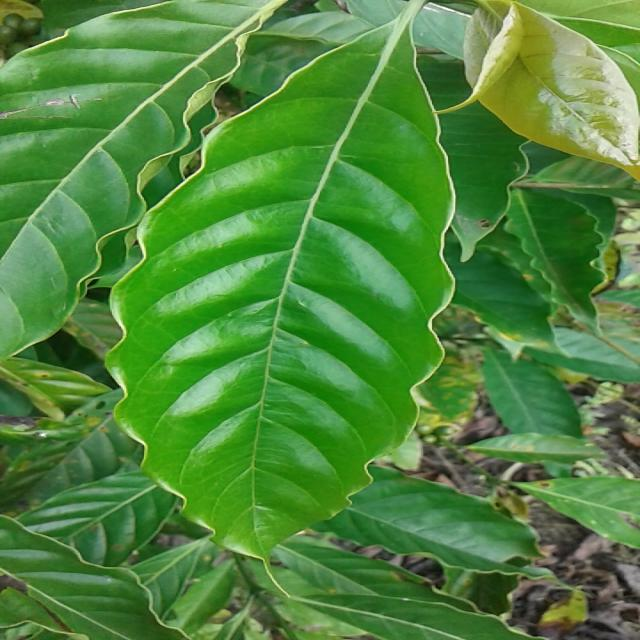Sanas: (105, 20, 459, 562)
